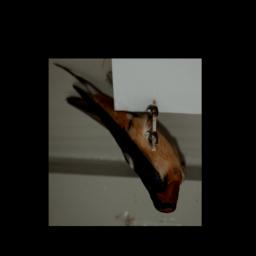Swallow: (52, 66, 182, 214)
